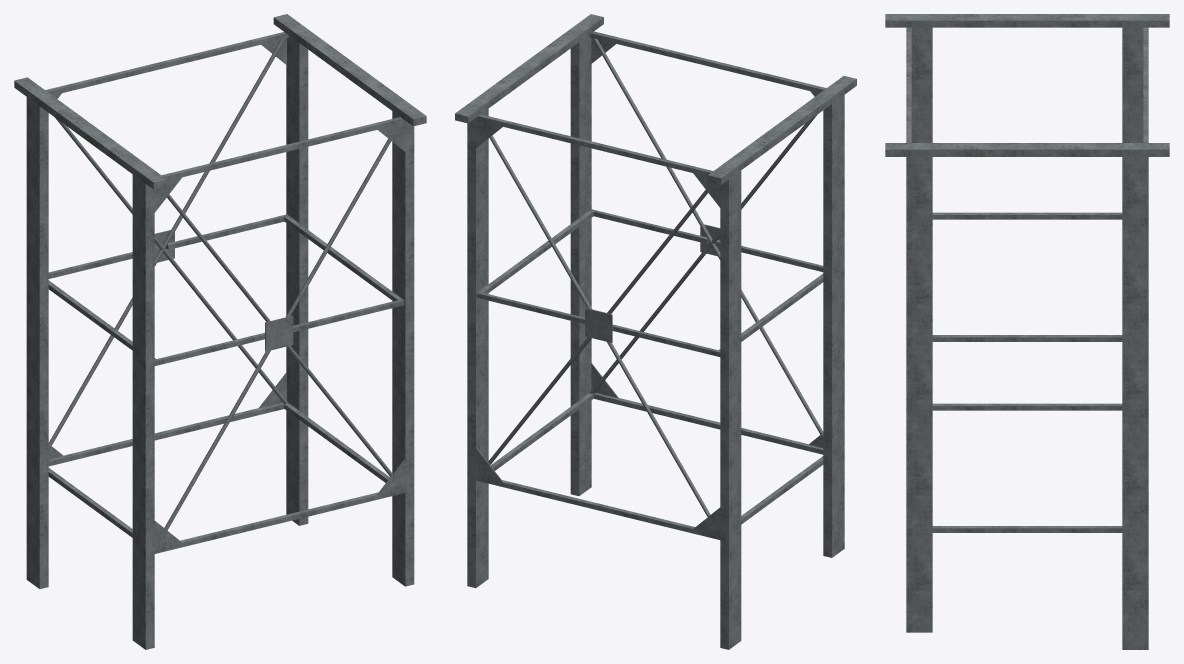
The model's file is Вышка.fbx.
3 views of the same model, side by side, from view 1: azimuth 30°, elevation 25°; view 2: azimuth 150°, elevation 25°; view 3: azimuth 270°, elevation 25° (orthographic). The views are drawn at different scales.
Visible parts, largest first — view 1: Model; view 2: Model; view 3: Model.
Boxes of the visible parts, x1,y1,x2,y2 form: Model: (14,14,426,649); Model: (455,14,856,649); Model: (885,14,1169,649).
Size of the model in its own units: 305 by 526 by 270.
